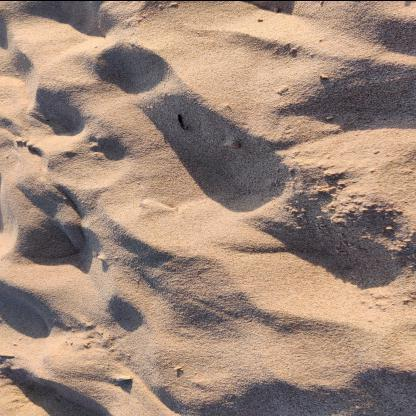plastik: (142, 199, 178, 211)
